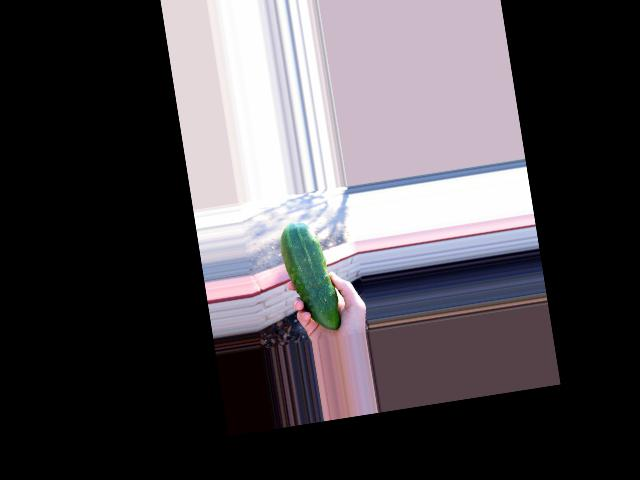cucumber: (276, 218, 341, 335)
